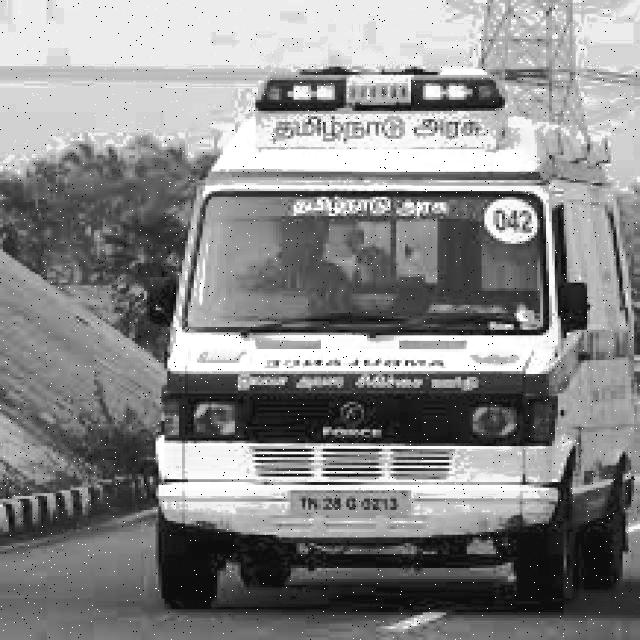LCV: (150, 69, 586, 542)
